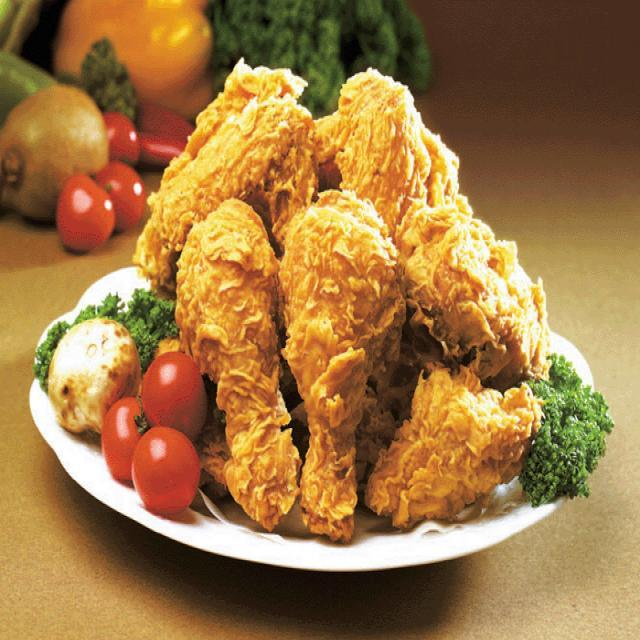Frango: (139, 61, 536, 534)
